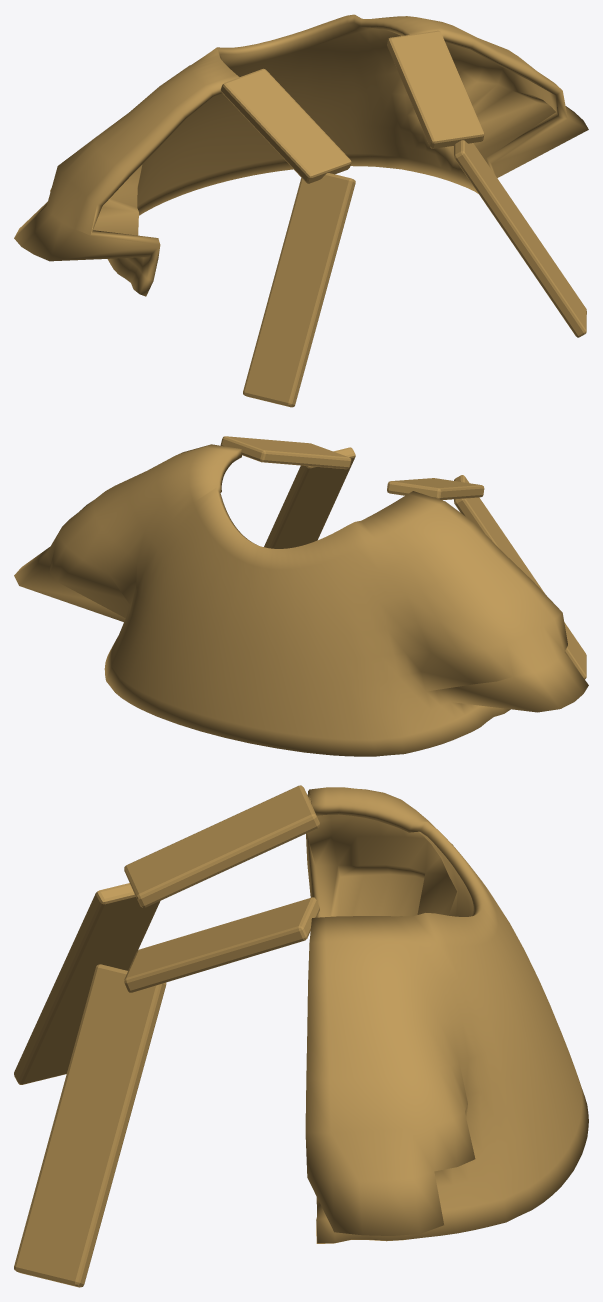
The model's file is shawl_ochre.glb.
The picture shows the model from 3 angles, top to bottom: view 1: azimuth 30°, elevation 25°; view 2: azimuth 150°, elevation 25°; view 3: azimuth 270°, elevation 25°; orthographic projection. The views are drawn at different scales.
Parts seen in each view (by area): view 1: shawl_ochre; view 2: shawl_ochre; view 3: shawl_ochre.
Boxes of the visible parts, x1,y1,x2,y2 form: shawl_ochre: (14, 14, 588, 407); shawl_ochre: (14, 436, 588, 756); shawl_ochre: (14, 785, 588, 1287).
Size of the model in its own units: 1.13 by 0.4658 by 0.752.
